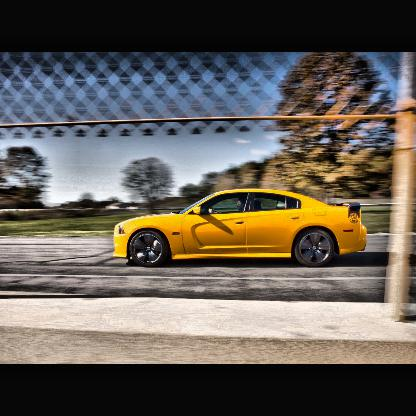Dodge Charger Sedan 2012: (112, 187, 371, 269)
